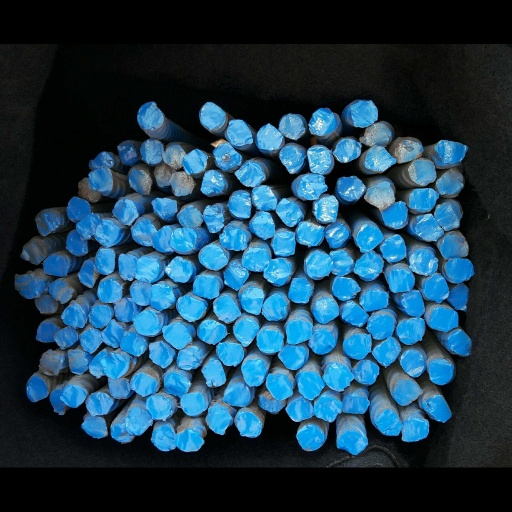dipstickw: (412, 213, 444, 242), (365, 182, 395, 211), (371, 337, 401, 366), (305, 251, 333, 280), (354, 251, 382, 280), (161, 324, 193, 349), (364, 145, 396, 170), (308, 108, 336, 136), (355, 224, 383, 252), (136, 101, 163, 130), (213, 294, 240, 323), (213, 142, 242, 169), (232, 318, 259, 347), (323, 364, 352, 391), (227, 119, 252, 150), (433, 139, 465, 163), (165, 256, 193, 283), (276, 198, 303, 226), (264, 258, 291, 286), (396, 318, 424, 345), (440, 234, 468, 261), (177, 295, 206, 321), (219, 225, 248, 251), (307, 145, 333, 174), (364, 121, 393, 147), (408, 250, 437, 276), (224, 261, 249, 291), (443, 258, 474, 282), (132, 309, 159, 336), (315, 395, 342, 422), (94, 219, 120, 247), (265, 373, 293, 399), (296, 425, 324, 451), (298, 371, 324, 399), (395, 137, 423, 163), (380, 233, 406, 261), (343, 333, 371, 359), (206, 406, 231, 435), (197, 319, 226, 344), (198, 245, 227, 270), (285, 396, 314, 421), (298, 174, 327, 199), (435, 168, 464, 193), (337, 430, 367, 454), (112, 199, 138, 226), (126, 407, 152, 434), (148, 341, 174, 368), (199, 102, 225, 129), (279, 146, 305, 173), (309, 327, 335, 354), (382, 201, 408, 228), (425, 395, 451, 422), (428, 358, 454, 385), (131, 218, 156, 246), (250, 211, 275, 239), (408, 160, 436, 185), (435, 202, 460, 230), (400, 349, 425, 377), (424, 274, 449, 302), (201, 359, 225, 388), (149, 283, 175, 309), (256, 124, 282, 150), (279, 114, 305, 140), (313, 298, 339, 324), (351, 100, 377, 126), (163, 372, 190, 397), (241, 359, 266, 386), (262, 294, 287, 321), (278, 345, 305, 370), (393, 380, 420, 405), (101, 320, 125, 348), (234, 162, 262, 186), (333, 138, 361, 162), (336, 176, 364, 200), (175, 428, 204, 451), (240, 286, 263, 315), (429, 307, 458, 330), (66, 196, 91, 222), (48, 279, 74, 304), (101, 353, 126, 379), (150, 426, 176, 451), (286, 319, 312, 344), (324, 222, 349, 248), (313, 196, 338, 222), (342, 302, 368, 327), (368, 314, 394, 339), (376, 409, 401, 435), (223, 383, 250, 407), (169, 227, 196, 251), (242, 247, 269, 271), (256, 329, 283, 353), (297, 221, 324, 245), (352, 360, 379, 384), (228, 190, 251, 218), (401, 290, 424, 318), (409, 189, 438, 211), (35, 210, 60, 235), (121, 332, 147, 356), (176, 346, 202, 370), (252, 185, 276, 211), (329, 250, 353, 276), (332, 276, 358, 300), (388, 268, 414, 292), (86, 392, 113, 415), (401, 418, 428, 441), (88, 167, 113, 191), (78, 328, 102, 353), (61, 384, 86, 408), (146, 395, 171, 419), (114, 297, 138, 322), (135, 256, 159, 281), (170, 172, 195, 196), (201, 170, 225, 195), (21, 241, 47, 264), (129, 280, 152, 306), (217, 342, 243, 365), (193, 275, 219, 298), (272, 230, 295, 256), (288, 277, 311, 303), (81, 416, 108, 438), (203, 204, 223, 233), (360, 290, 389, 310), (181, 392, 205, 416), (183, 149, 207, 173), (76, 214, 101, 237), (60, 305, 85, 328), (97, 279, 122, 302), (131, 372, 156, 395), (129, 169, 151, 195), (151, 198, 177, 220), (177, 205, 203, 227), (259, 391, 285, 413), (153, 226, 174, 253), (14, 274, 37, 298), (448, 331, 471, 355), (78, 259, 97, 288), (141, 139, 163, 164), (66, 230, 88, 255), (26, 376, 48, 401), (163, 144, 185, 169), (42, 255, 68, 276), (39, 350, 60, 376), (118, 253, 138, 280), (116, 142, 139, 165), (106, 376, 130, 398), (342, 392, 367, 413), (449, 283, 468, 310), (77, 178, 99, 201), (55, 326, 78, 348), (88, 305, 111, 327), (36, 321, 60, 342), (67, 350, 88, 374), (110, 422, 135, 442), (95, 249, 114, 274), (35, 293, 57, 313), (88, 151, 113, 168), (50, 387, 64, 414)
